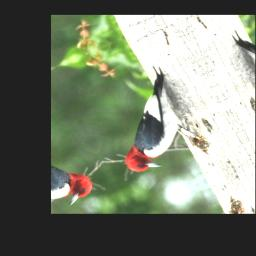Woodpecker: (88, 65, 204, 179)
